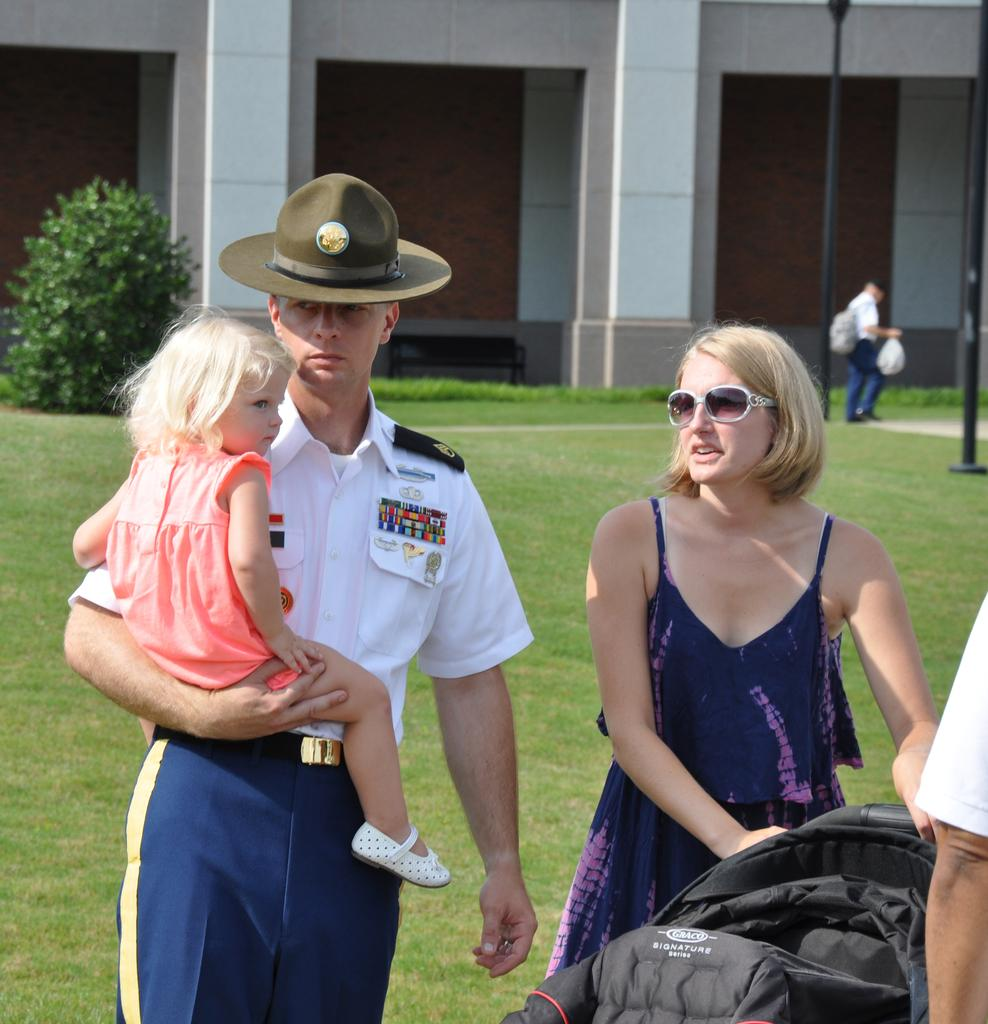Hat: (215, 169, 453, 317)
